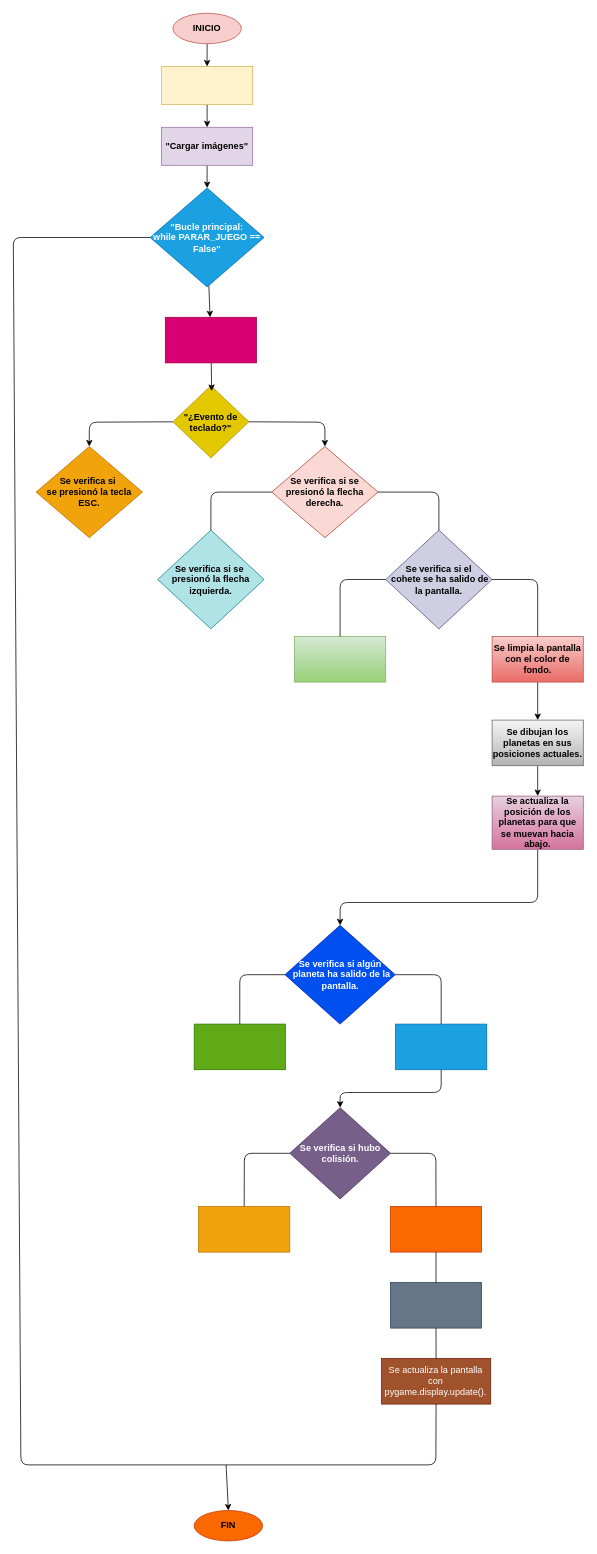
Some shapes in this 597 by 1554 pixel diagram are drawn without their labels. The centre of each missing label's shape, as x and y in pixels:
"Definir variables del juego": point 207,85
"Gestionar eventos: pygame.event.get()": point 210,340
Se actualiza la posición del cohete según la entrada del jugador.: point 436,1229
Se dibuja la puntuación y el cohete en la pantalla.: point 436,1305
Se reposicionan los planetas y se actualiza la puntuación.: point 239,1046
Se verifica si el cohete ha colisionado con algún planeta.: point 441,1046
Si el cohete está fuera de los límites, el juego termina.: point 340,659
Si hay colisión, el juego termina.: point 244,1229
